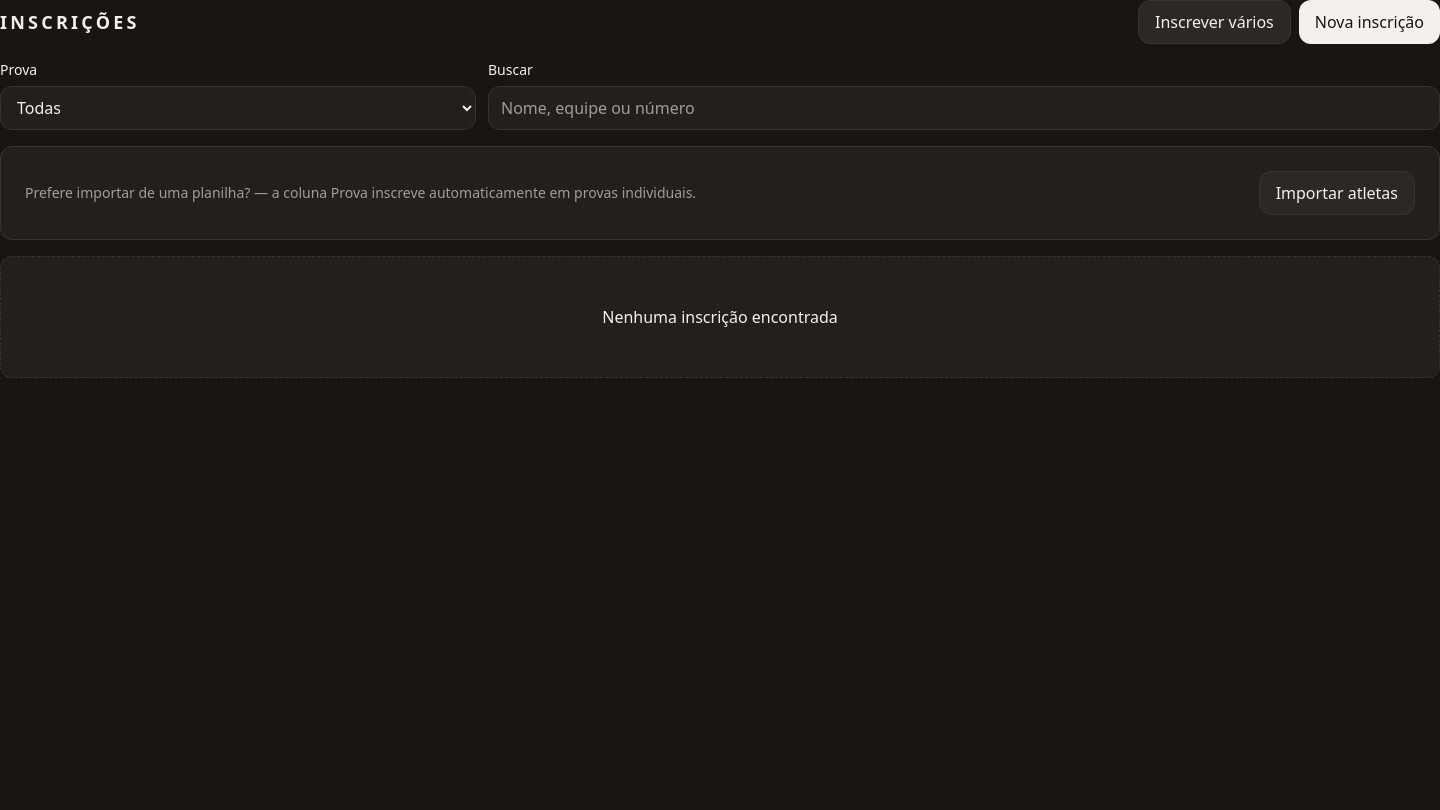
creating a team entry › selects a member with the keyboard (ArrowDown + Enter) and exposes combobox ARIA
Click the button with test id "new-entry": (1369, 22) [1299,0,1439,44]
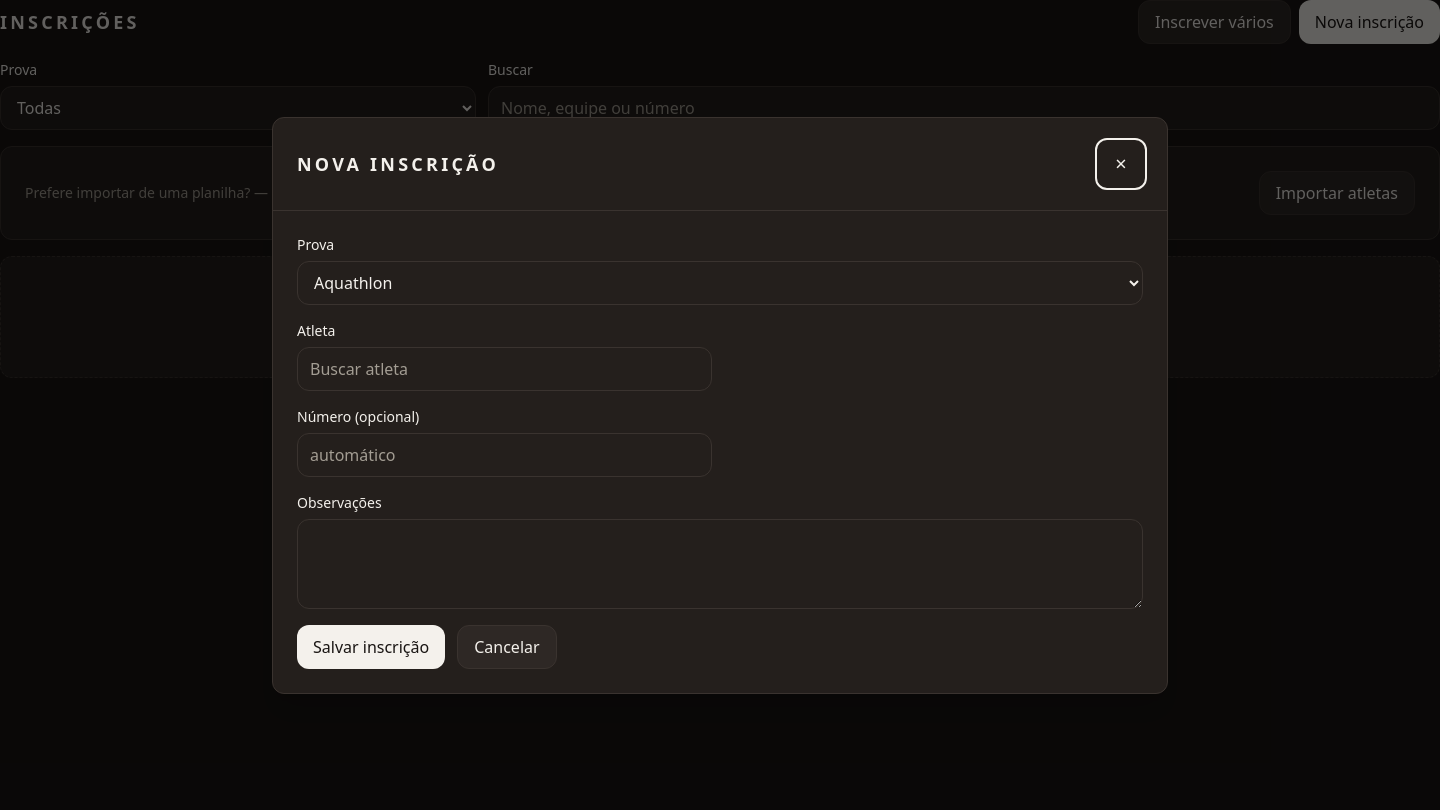
In the dropdown with test id "entry-member-0": (504, 368) [297,346,712,390], type "Ana"
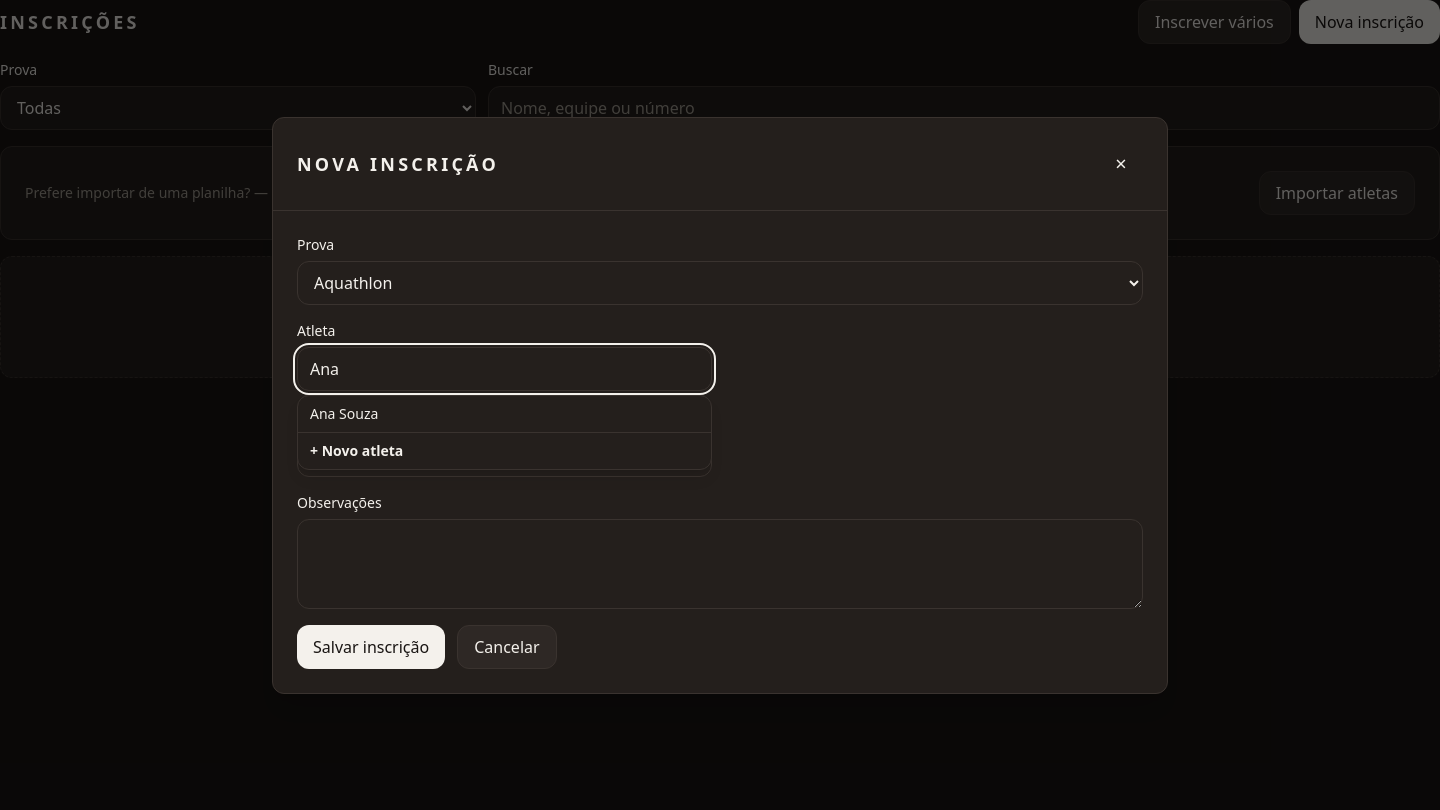
Expected: the dropdown with test id "entry-member-0" is expanded, [297,346,712,390]
Expected: the list is shown, [297,394,712,470]
Press Arrowdown
Press Enter
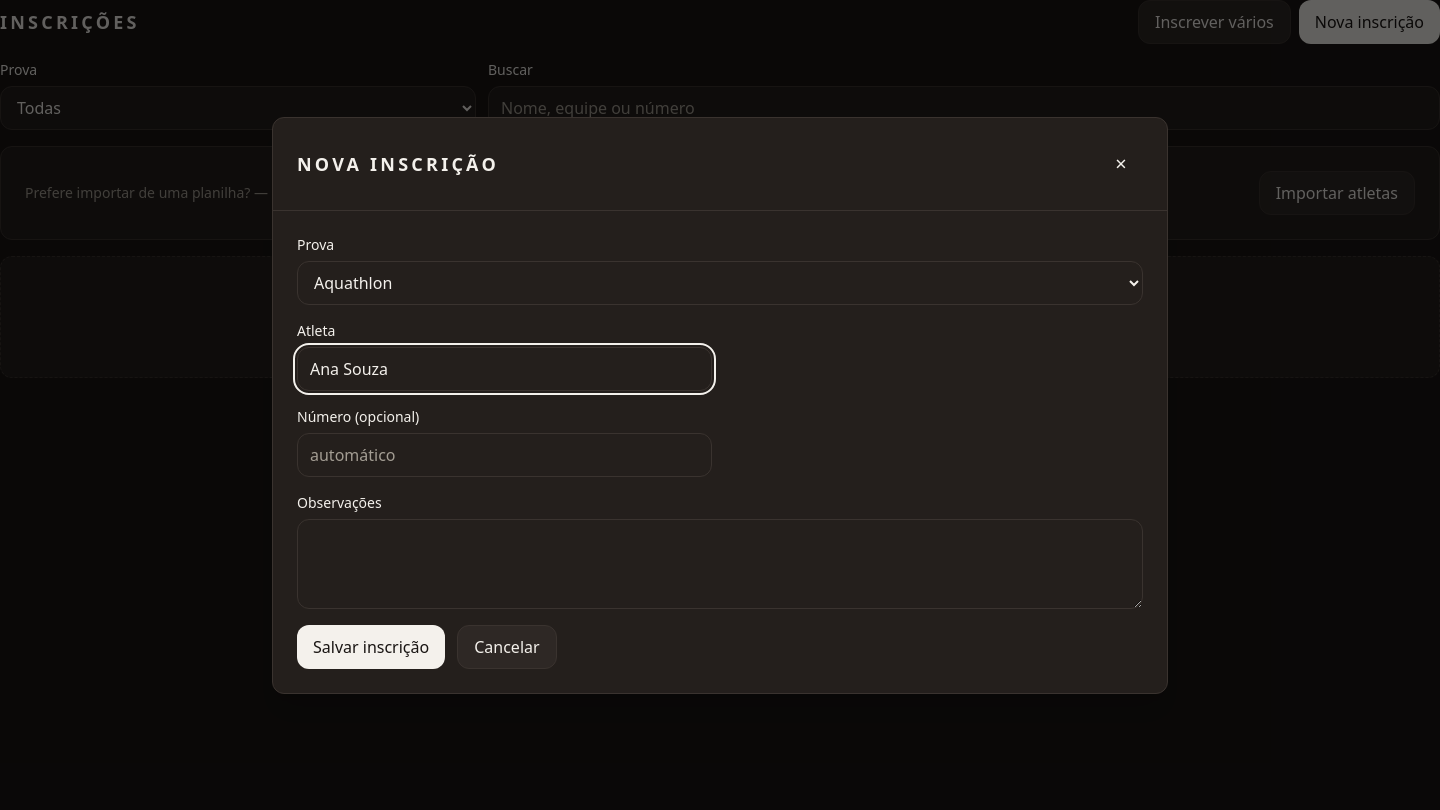
Expected: the dropdown with test id "entry-member-0" holds "Ana Souza", [297,346,712,390]
Expected: the dropdown with test id "entry-member-0" is collapsed, [297,346,712,390]
Expected: the list is gone
